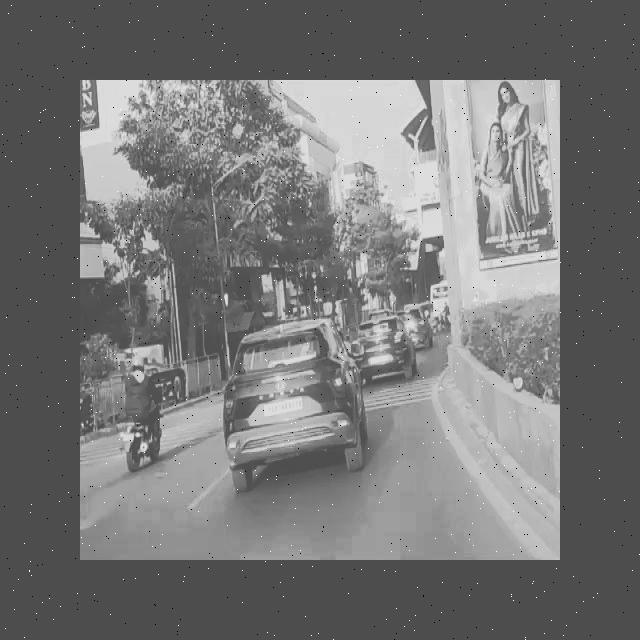Car: (219, 311, 374, 497), (348, 312, 418, 382), (406, 295, 436, 357)
